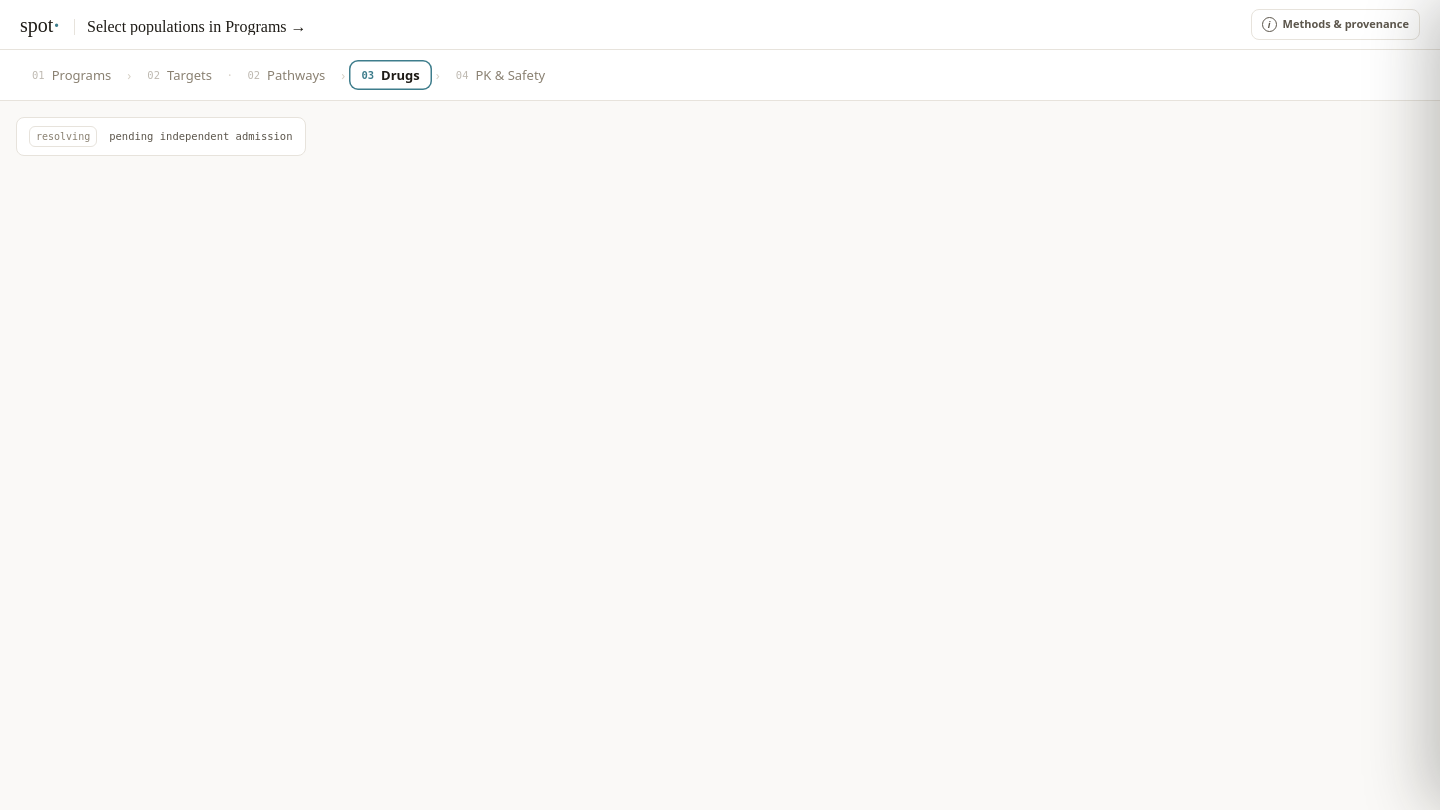
Test case: contextual Methods & Provenance drawer › MINOR 6: Drugs states its upstream CD4 source fact (not "unavailable")
Click the button "i Methods & provenance" at (1335, 25), box [1251, 9, 1420, 40]
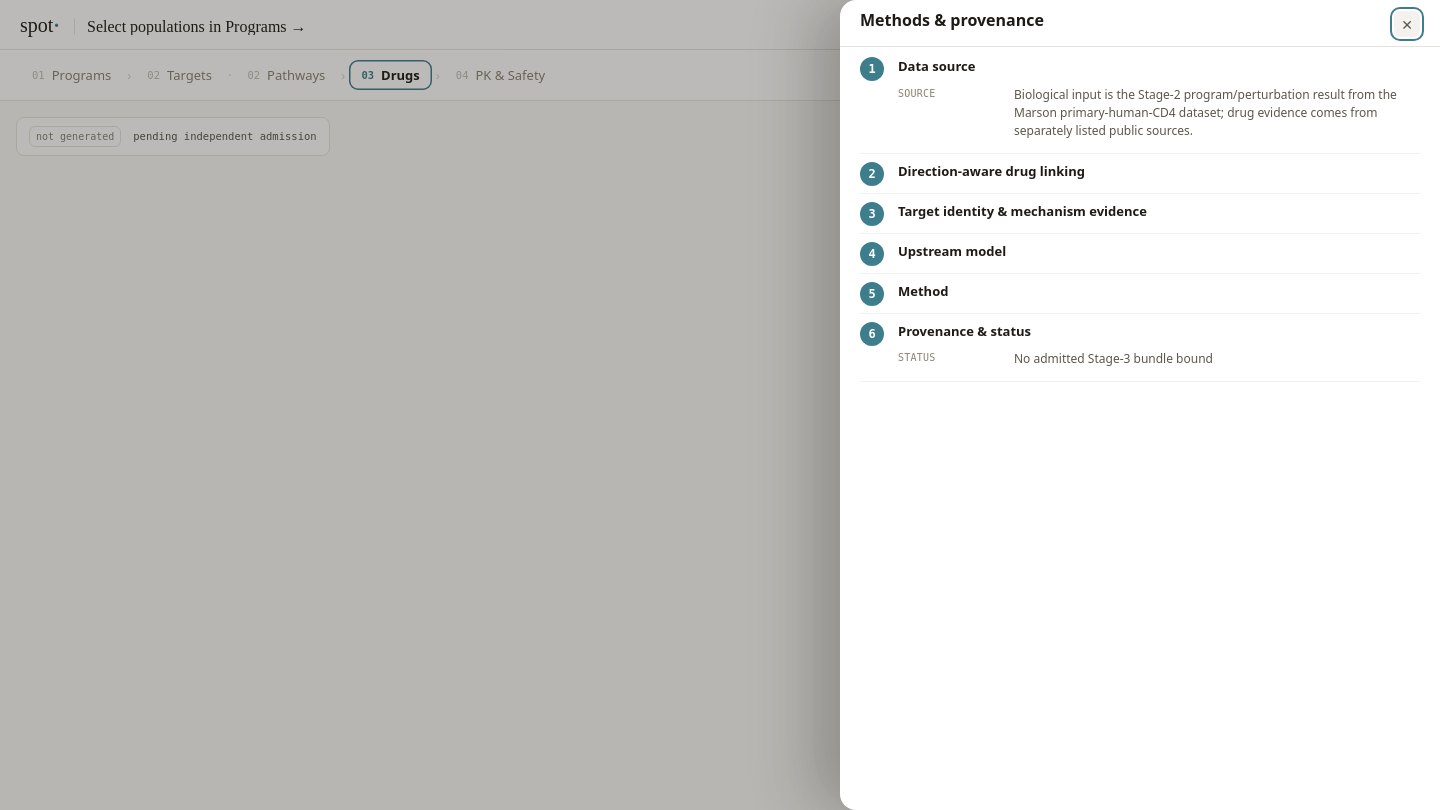
Now the text "Marson primary-human-CD4 dataset" is shown, box [1014, 86, 1397, 138]
